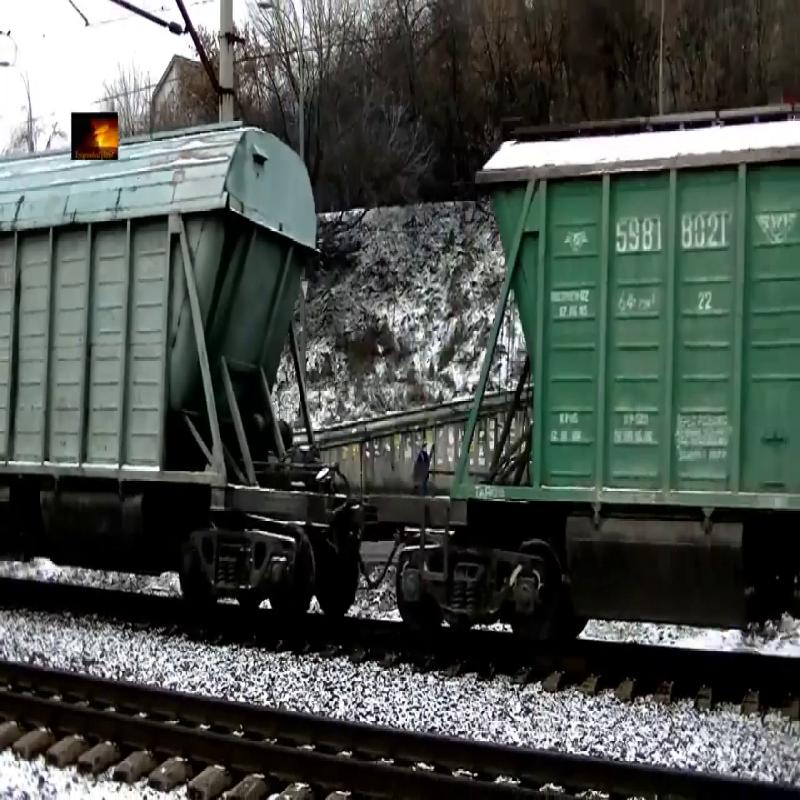train: (434, 104, 800, 565), (2, 125, 315, 530)
